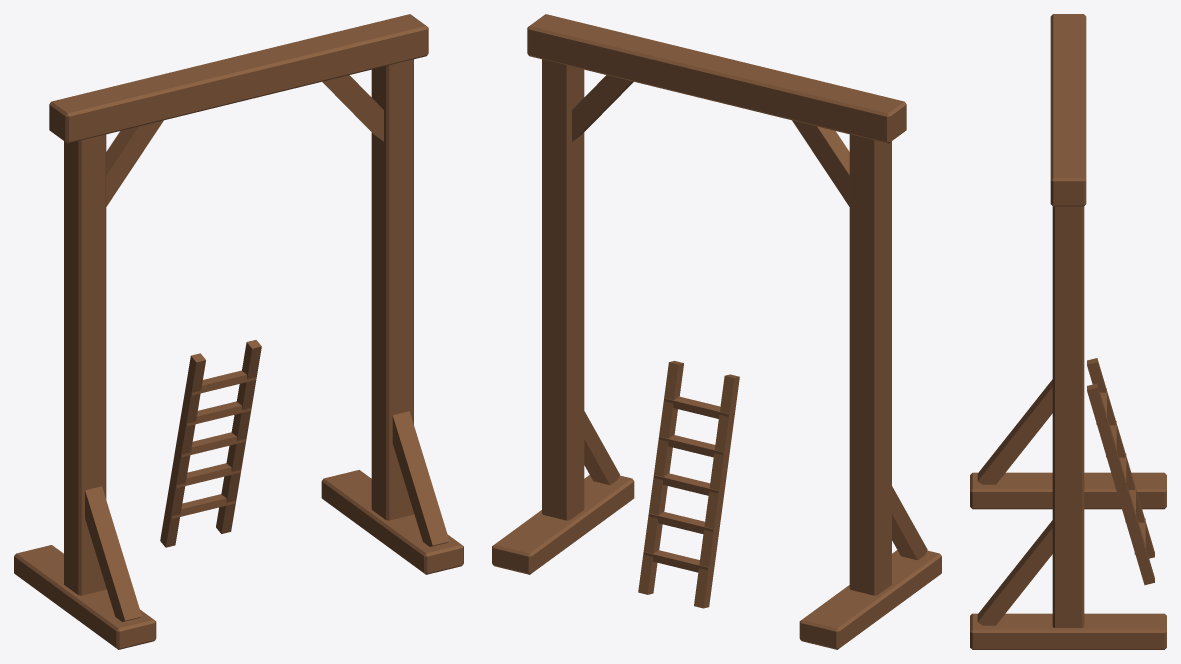
Rendered from gallows.glb.
The picture shows the model from 3 angles, left to right: view 1: azimuth 30°, elevation 25°; view 2: azimuth 150°, elevation 25°; view 3: azimuth 270°, elevation 25°; orthographic projection. The views are drawn at different scales.
Visible parts, largest first — view 1: Board, Board.004, Board.008, Board.005, Board.001, Board.006, Board.002, Board.009, Board.010, Board.003, Board.007, Board.015 (+4 smaller); view 2: Board, Board.004, Board.008, Board.005, Board.001, Board.009, Board.010, Board.003, Board.007, Board.006, Board.002, Board.011 (+4 smaller); view 3: Board.004, Board.008, Board.005, Board.001, Board.010, Board.006, Board.002, Board.009.
Part boxes in pixels (x1,y1,x2,y2): Board: (64, 134, 106, 595); Board.004: (371, 59, 413, 520); Board.008: (49, 14, 428, 143); Board.005: (321, 470, 463, 574); Board.001: (14, 545, 156, 649); Board.006: (392, 411, 449, 546); Board.002: (85, 486, 141, 621); Board.009: (160, 353, 205, 547); Board.010: (216, 340, 261, 533); Board.003: (106, 120, 163, 206); Board.007: (322, 75, 383, 141); Board.015: (191, 370, 256, 395); Board: (849, 134, 891, 595); Board.004: (542, 59, 584, 520); Board.008: (527, 14, 906, 143); Board.005: (492, 475, 634, 574); Board.001: (799, 550, 941, 649); Board.009: (694, 374, 739, 608); Board.010: (638, 361, 683, 594); Board.003: (792, 120, 849, 206); Board.007: (572, 75, 633, 141); Board.006: (584, 411, 619, 485); Board.002: (892, 486, 927, 560); Board.011: (643, 550, 708, 572); Board.004: (1052, 206, 1084, 627); Board.008: (1050, 14, 1086, 206); Board.005: (970, 613, 1166, 649); Board.001: (970, 472, 1166, 509); Board.010: (1087, 383, 1154, 585); Board.006: (977, 520, 1052, 625); Board.002: (977, 379, 1052, 484); Board.009: (1087, 358, 1154, 558).
Bounding box in the file's own units: 3 × 4 × 1.5.
